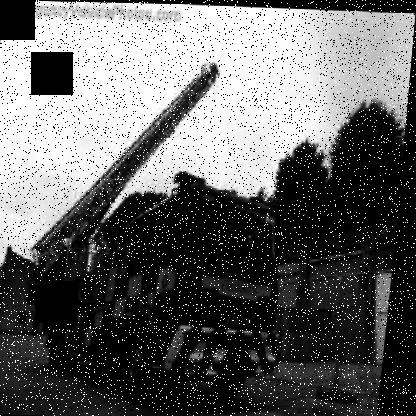emergency: (20, 50, 315, 411)
